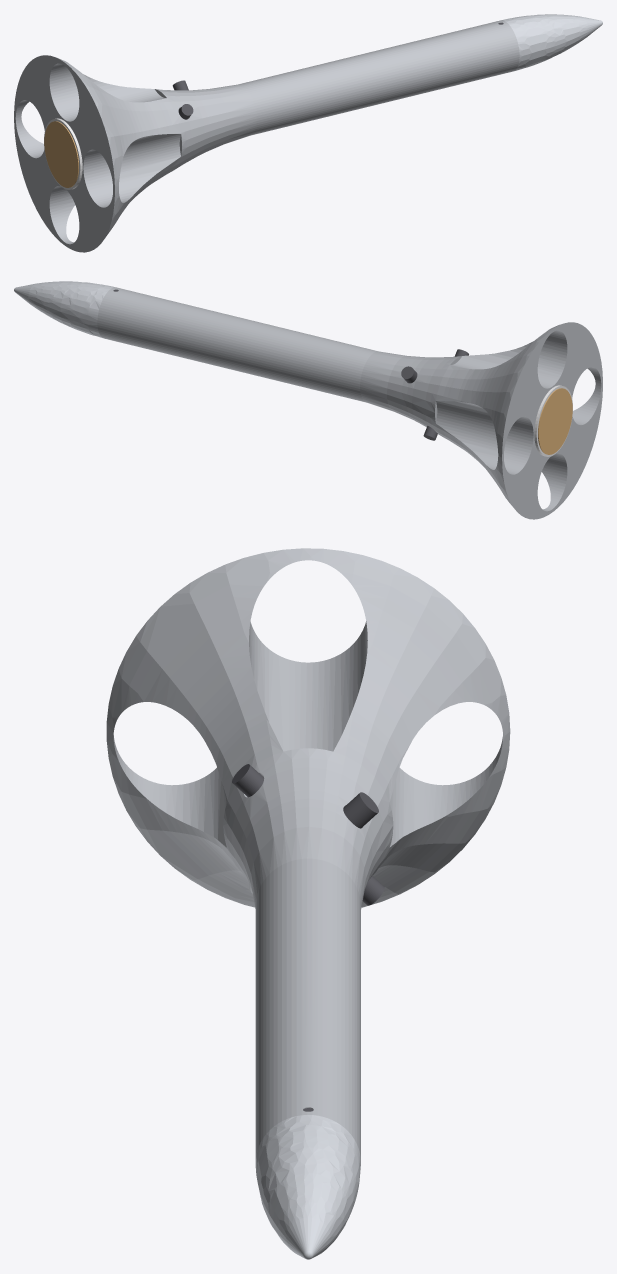
The model's file is perci_post_burn.glb.
The picture shows the model from 3 angles, top to bottom: view 1: azimuth 30°, elevation 25°; view 2: azimuth 150°, elevation 25°; view 3: azimuth 270°, elevation 25°; orthographic projection. The views are drawn at different scales.
Visible parts, largest first — view 1: flare_shell, main_body, nose_cone, antenna_patch, antenna_substrate; view 2: flare_shell, main_body, nose_cone, antenna_patch, antenna_substrate; view 3: flare_shell, main_body, nose_cone.
Boxes of the visible parts, x1,y1,x2,y2 form: flare_shell: (14,55,256,252); main_body: (239,20,519,135); nose_cone: (502,14,602,71); antenna_patch: (44,121,78,187); antenna_substrate: (44,118,82,189); flare_shell: (360,322,602,519); main_body: (97,287,377,402); nose_cone: (14,281,114,337); antenna_patch: (538,388,572,454); antenna_substrate: (534,385,572,456); flare_shell: (106,548,510,908); main_body: (255,858,360,1159); nose_cone: (255,1115,360,1259).
Bounding box in the file's own units: 1.38 × 0.4447 × 0.4446.
